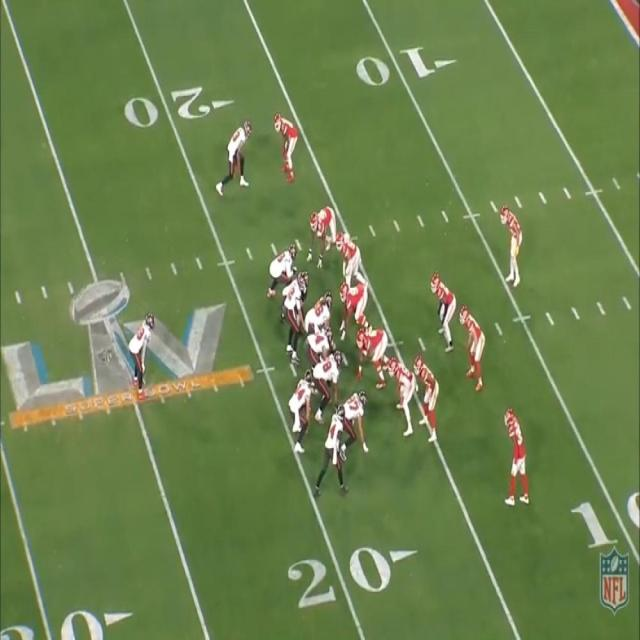center: (306, 290, 334, 328)
db: (502, 408, 530, 505), (417, 354, 442, 440), (503, 206, 525, 292), (276, 113, 298, 179)
lb: (428, 270, 456, 346), (458, 308, 483, 388)
qb: (282, 272, 304, 360)
skill: (128, 311, 157, 392), (220, 121, 252, 188), (324, 406, 345, 482), (390, 360, 412, 428), (346, 385, 368, 452), (292, 369, 310, 444), (336, 226, 364, 274)
